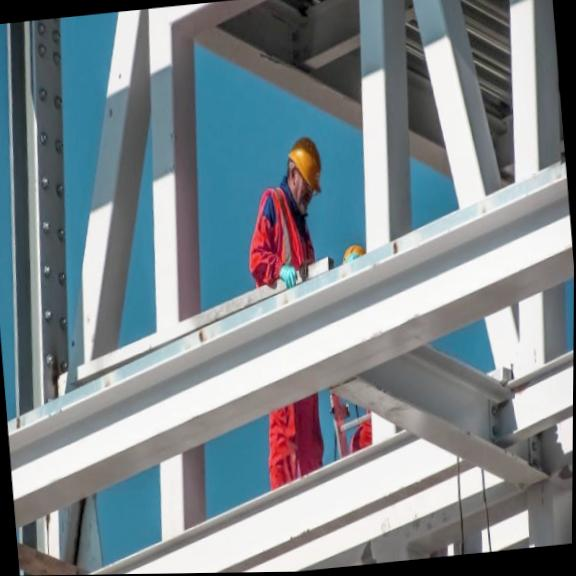safety_vest: (244, 181, 327, 319)
